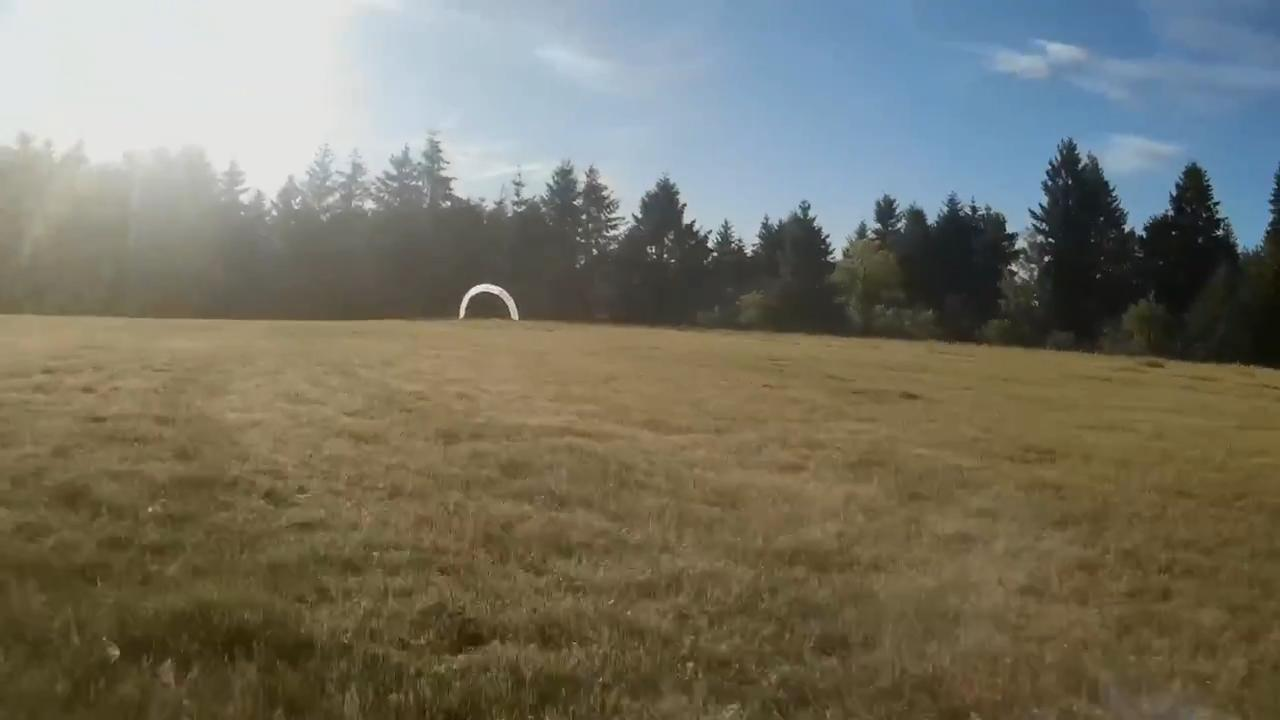gate: (458, 280, 519, 323)
